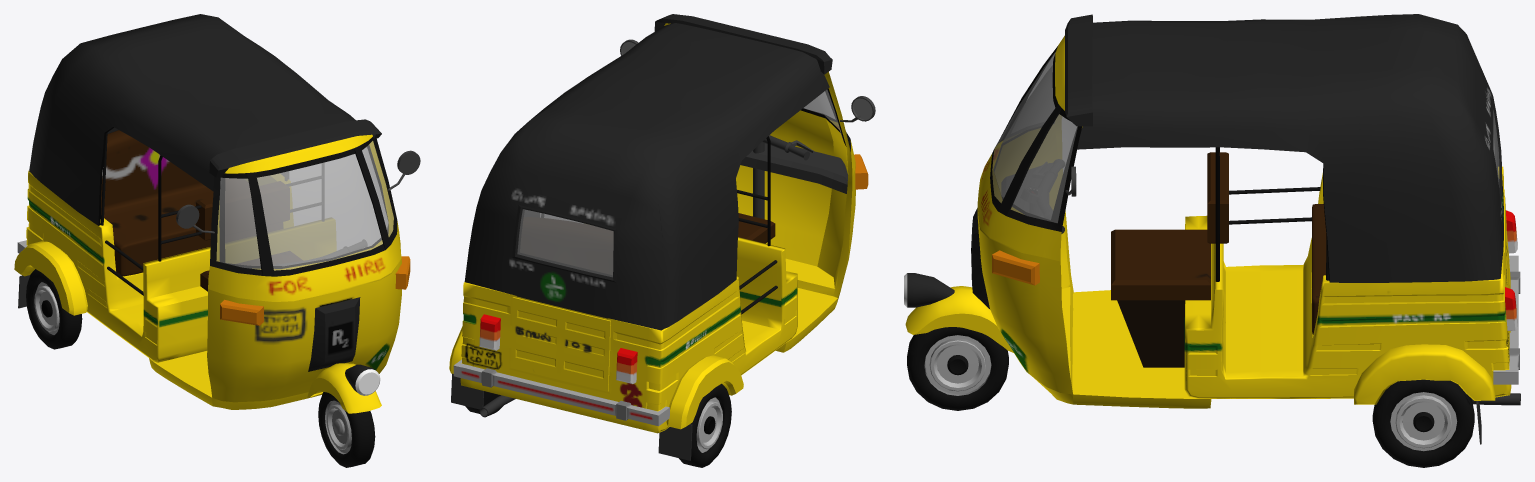
The model's file is Auto.fbx.
3 renders of one model, left to right at view 1: azimuth 30°, elevation 25°; view 2: azimuth 150°, elevation 25°; view 3: azimuth 270°, elevation 25°, orthographic. The views are drawn at different scales.
Parts seen in each view (by area): view 1: persp5; view 2: persp5; view 3: persp5.
Part boxes in pixels (bbox=[...]): persp5: bbox=[14, 14, 420, 467]; persp5: bbox=[449, 14, 875, 467]; persp5: bbox=[904, 14, 1520, 467].
Size of the model in its own units: 150 by 174 by 272.
2 materials, 1 textured.
